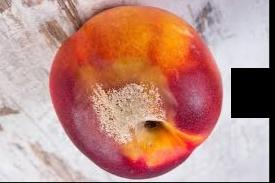rotten apple: (27, 4, 226, 179)
